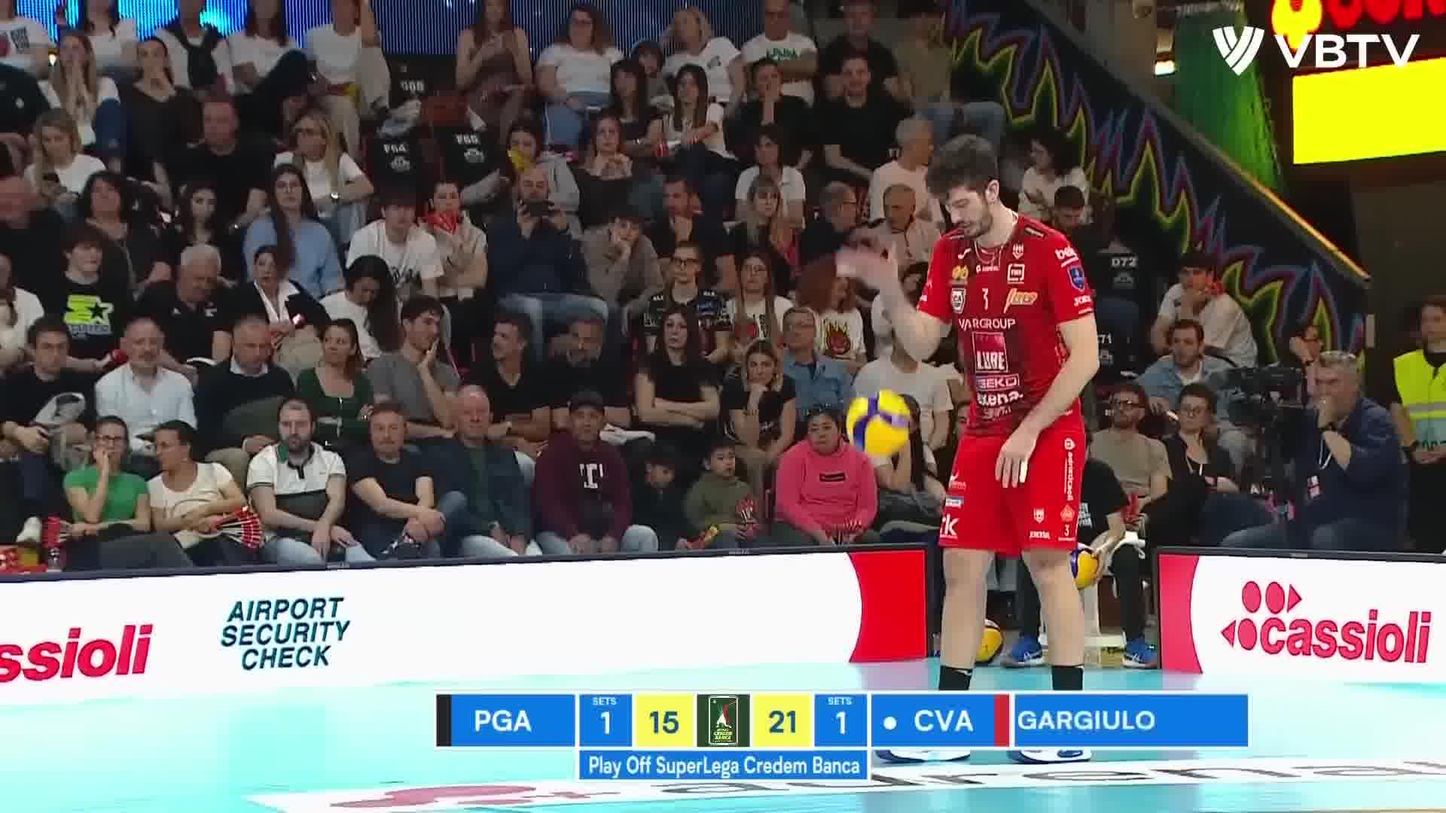balls: (840, 382, 921, 464)
